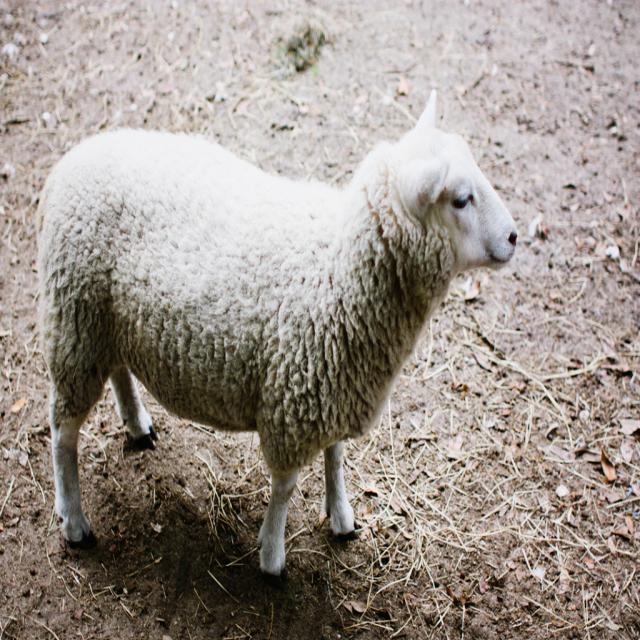Sheep: (35, 87, 518, 591)
